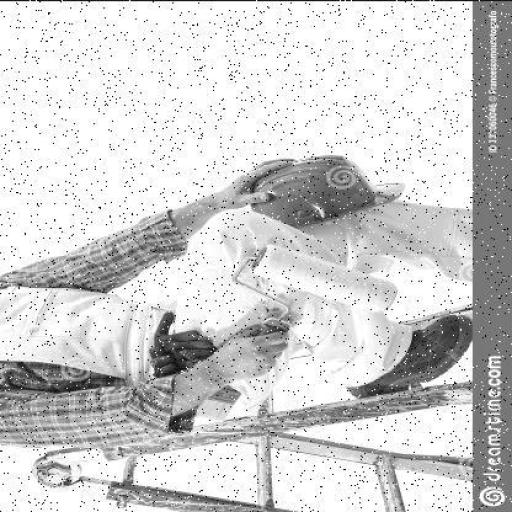safety_shoe: (346, 311, 474, 397)
